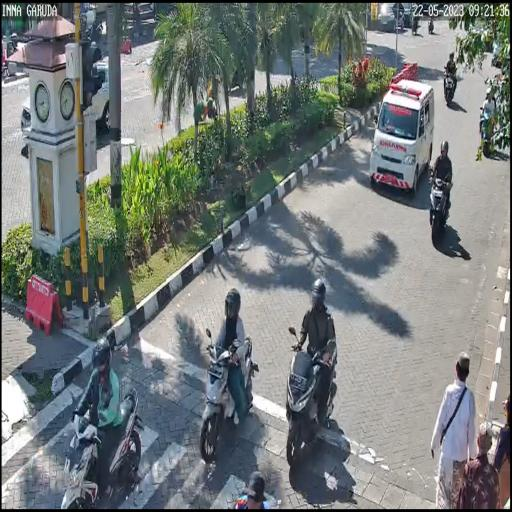mobil: (373, 74, 434, 194)
motor: (58, 386, 138, 506), (283, 320, 343, 471), (196, 326, 257, 470), (425, 160, 455, 240), (443, 58, 460, 107)
